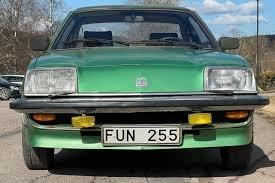license-plates: (102, 125, 180, 146)
